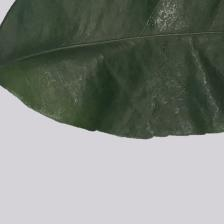healthy: (2, 2, 224, 126)
